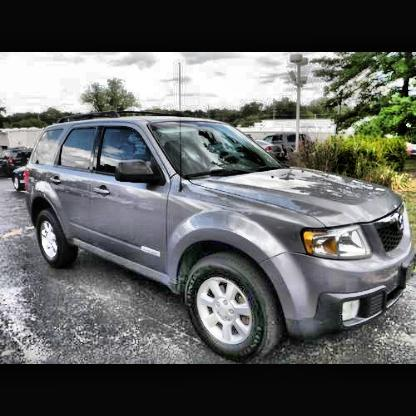Mazda Tribute SUV 2011: (26, 118, 415, 365)
